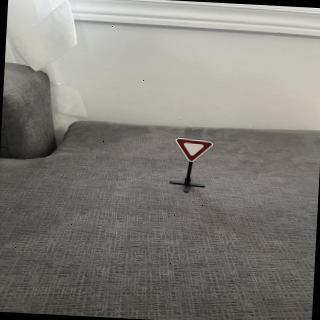sign_yield: (175, 138, 216, 166)
